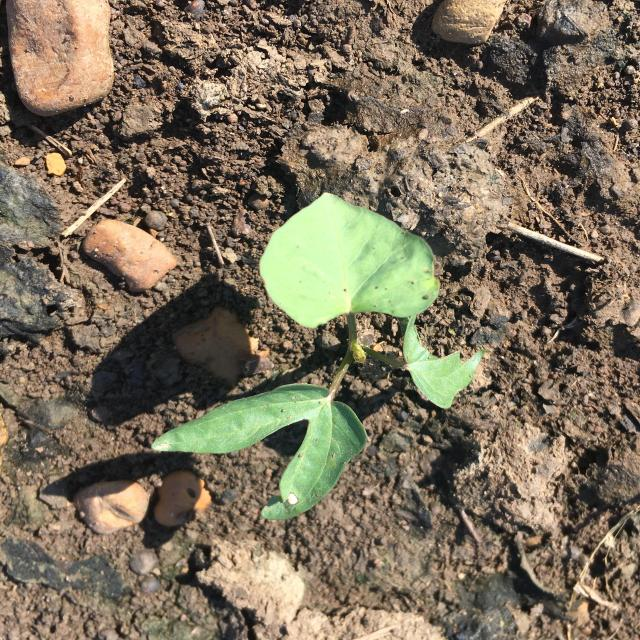MorningGlory: (150, 192, 487, 520)
